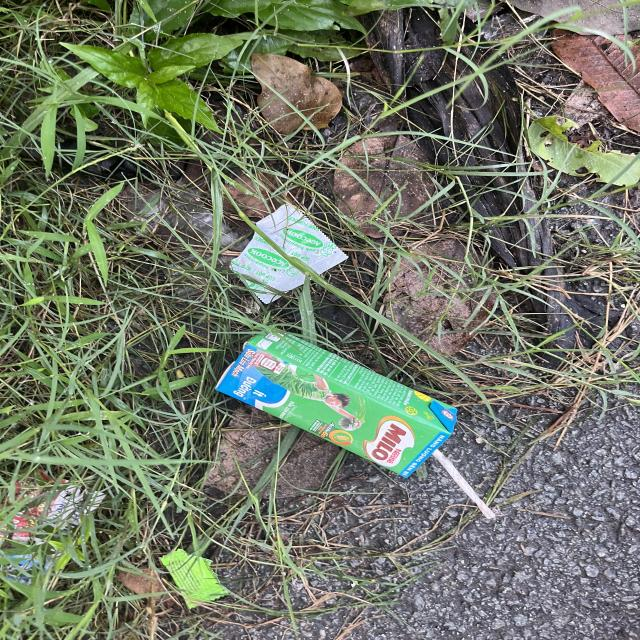cardboard box: (213, 324, 459, 480)
drinking straw: (431, 448, 497, 520)
packet: (229, 202, 349, 306), (158, 548, 231, 609)
